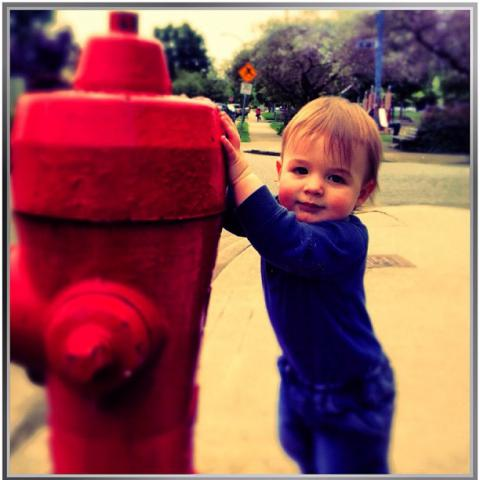car: (217, 105, 240, 119)
